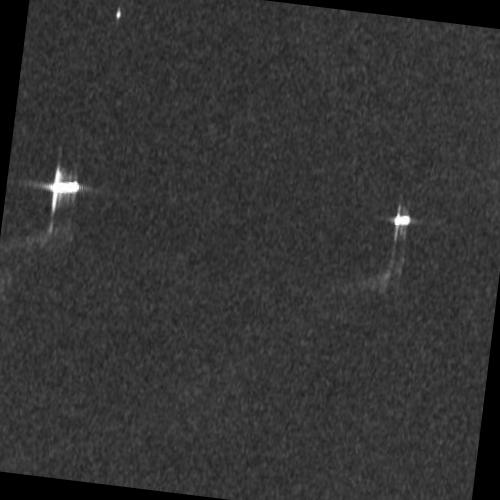ship: (50, 179, 80, 195), (393, 214, 411, 226)
